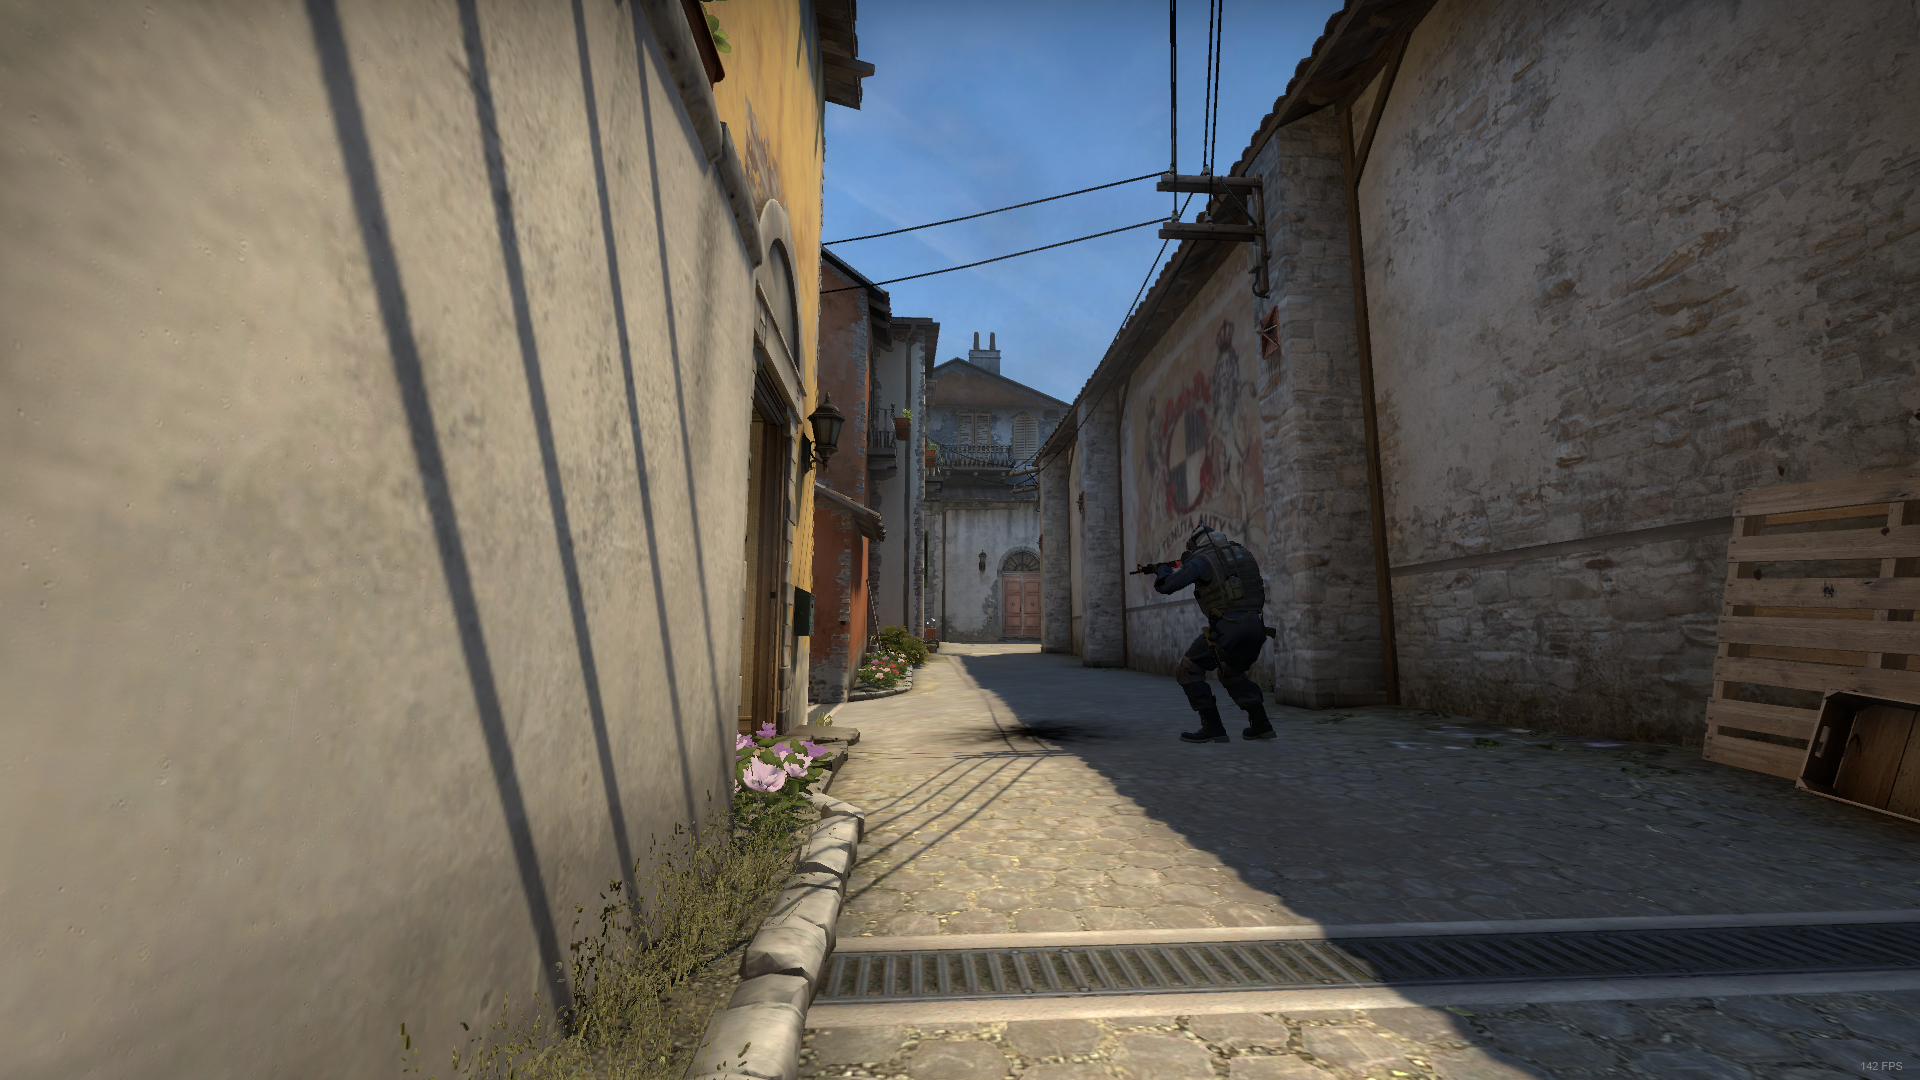ct: (1153, 524, 1287, 745)
